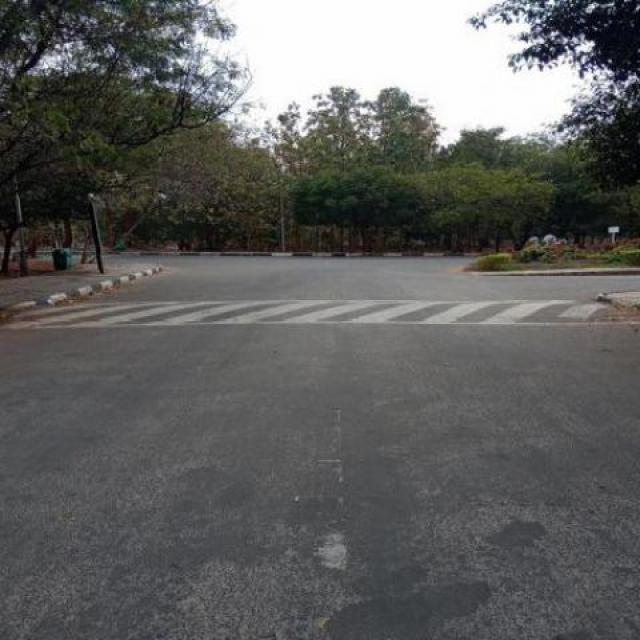Speed Bump: (1, 298, 612, 332)
